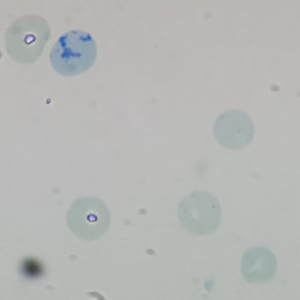aggregate reticulocyte: (48, 28, 99, 77)
erythrocyte: (1, 13, 53, 65), (64, 195, 113, 242), (239, 245, 280, 287)
punctate reticulocyte: (174, 188, 223, 237), (211, 108, 258, 151)
